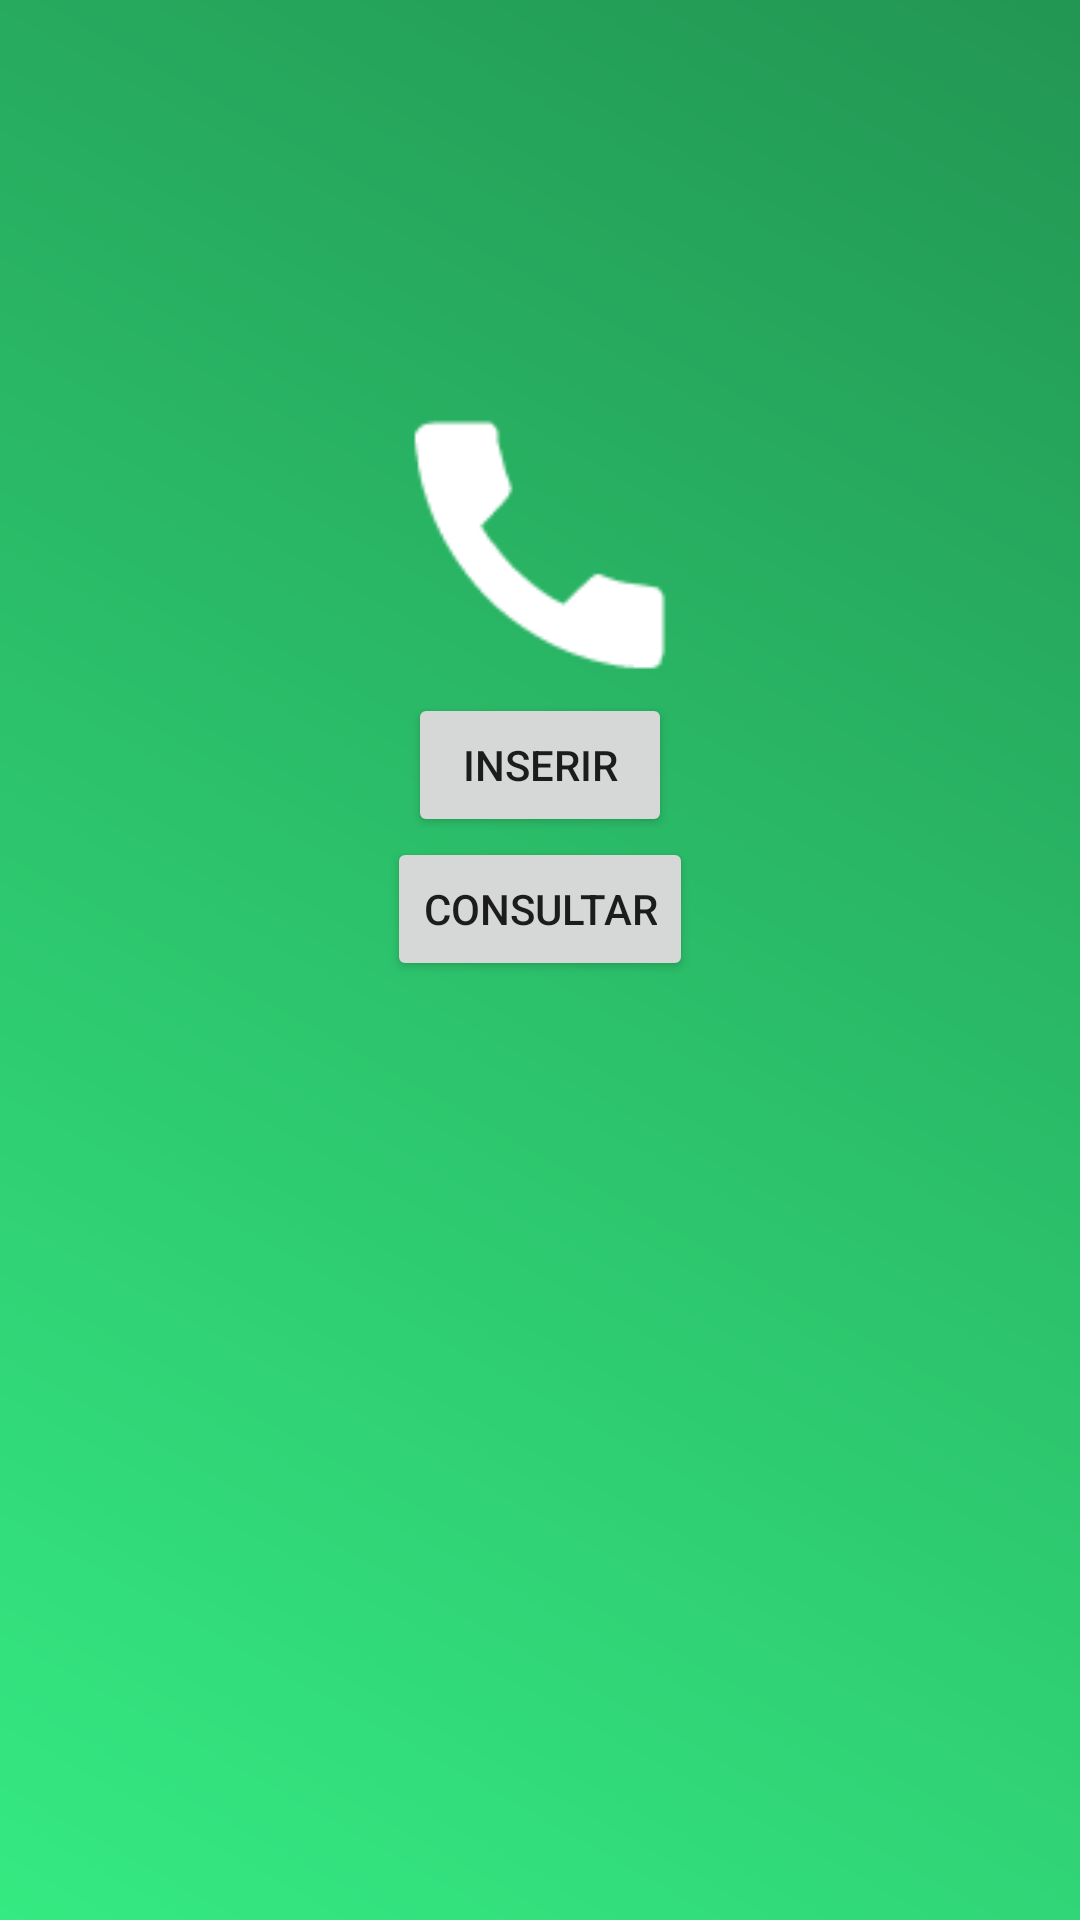

Screen size 1080*1920. Icon name, then its box in pixels as (x1, y1, x2, y2):
phone: (414, 420, 666, 669)
